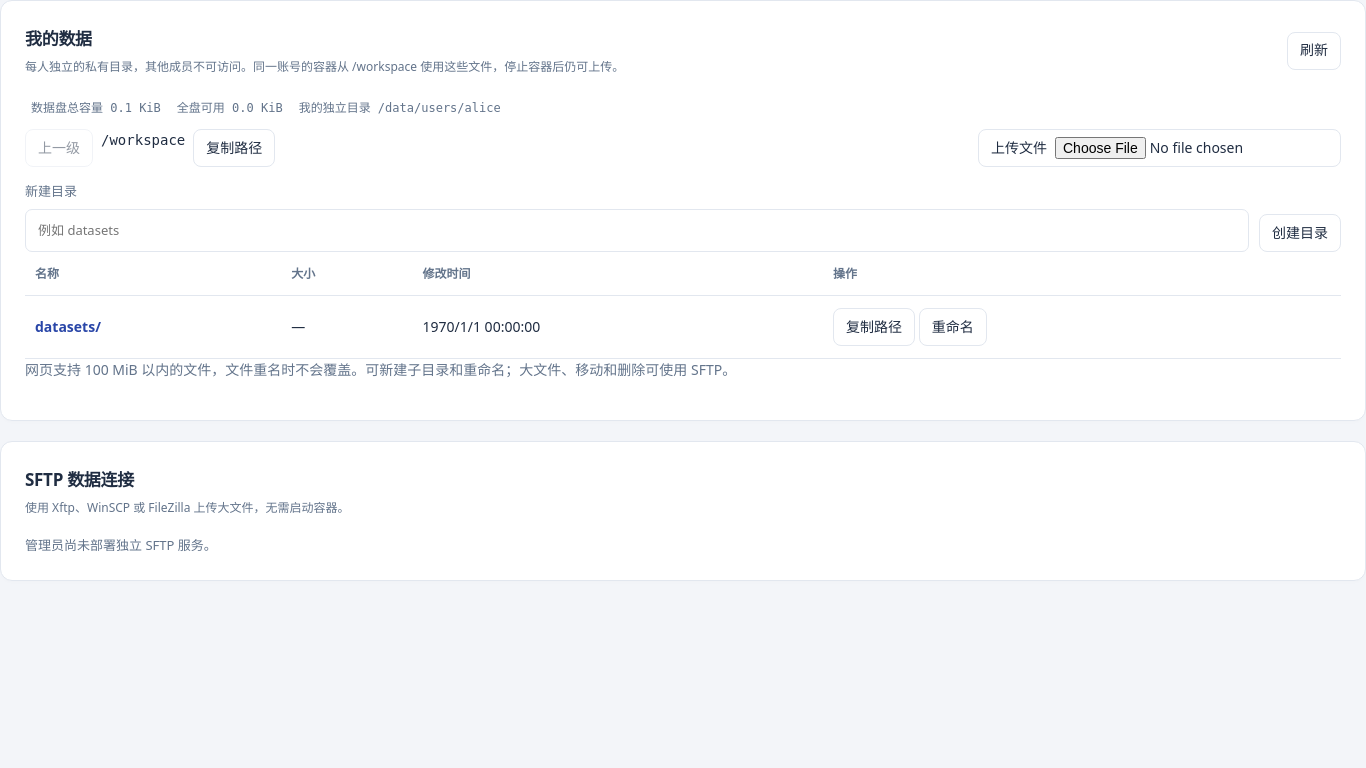
Test: rename sends only a path inside the current personal directory and refreshes
Click the button with aria-label "重命名 datasets": (953, 327) [919,308,987,346]
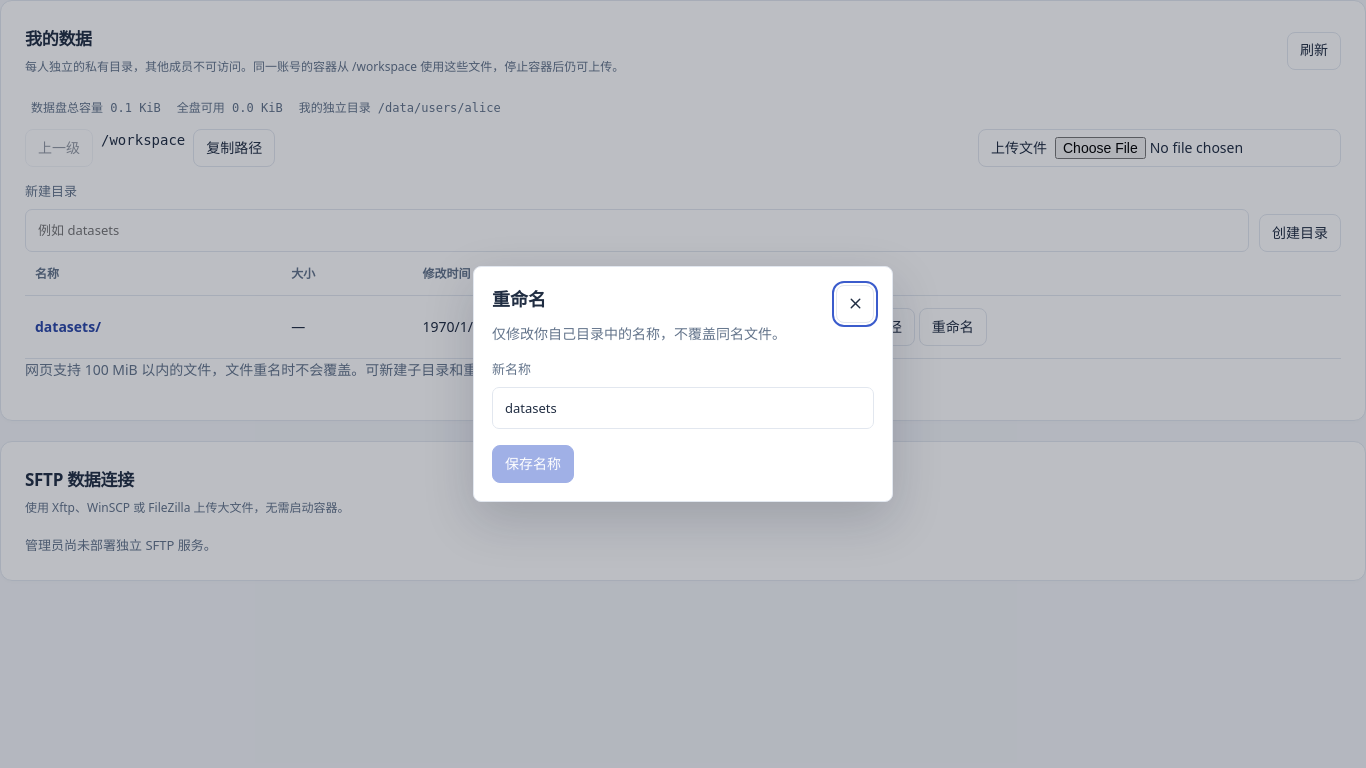
Replace the text in the field labelled "新名称" with "project-a": (683, 408) [492,387,874,430]
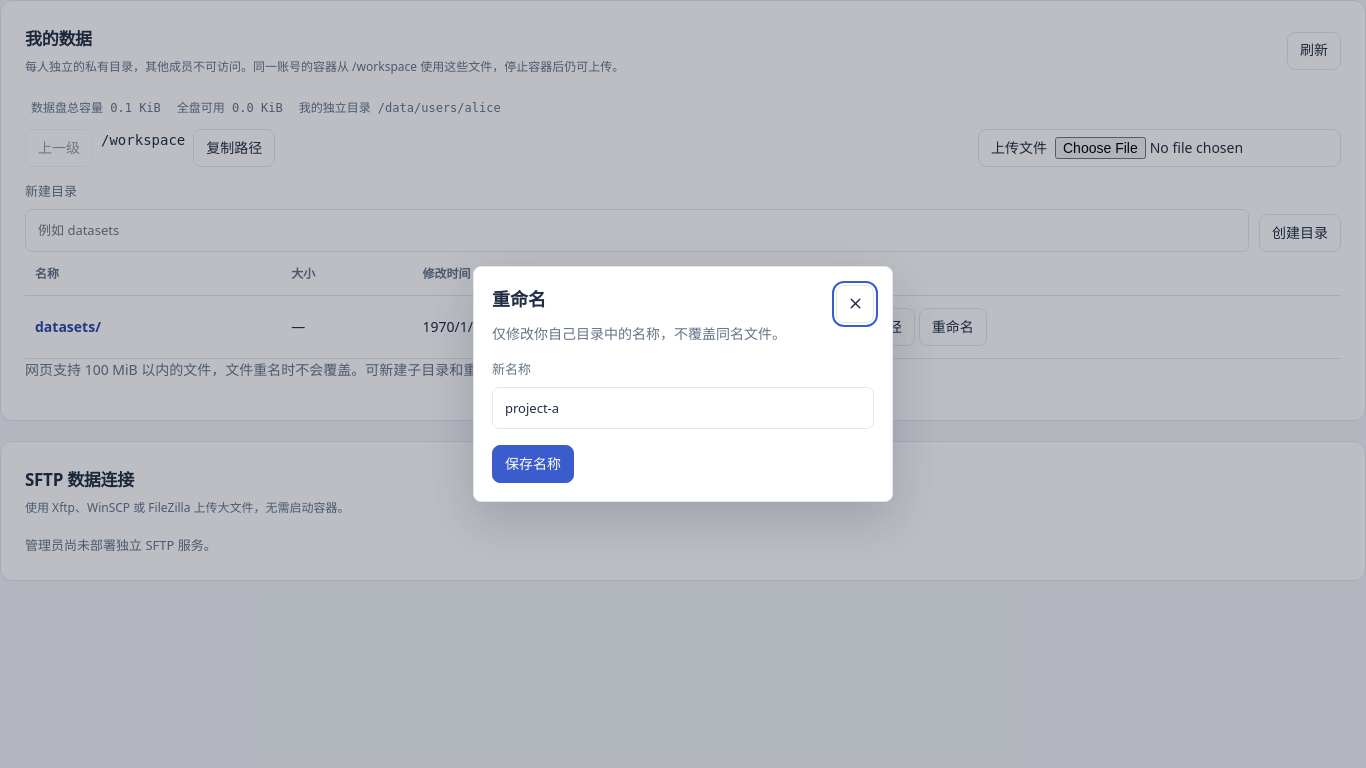
Click the button "保存名称": (533, 464) [492,446,574,484]
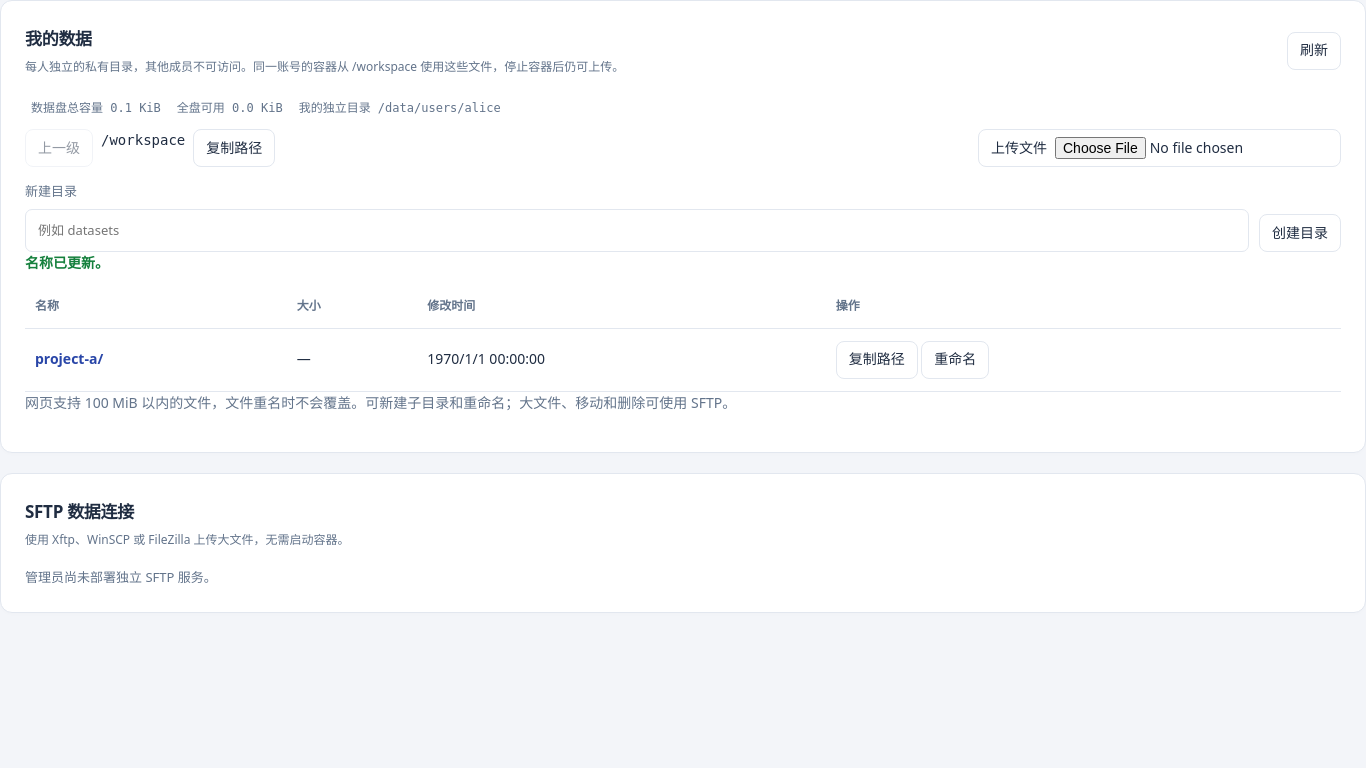
Expected: the button "project-a/" is shown, [35,344,103,375]
